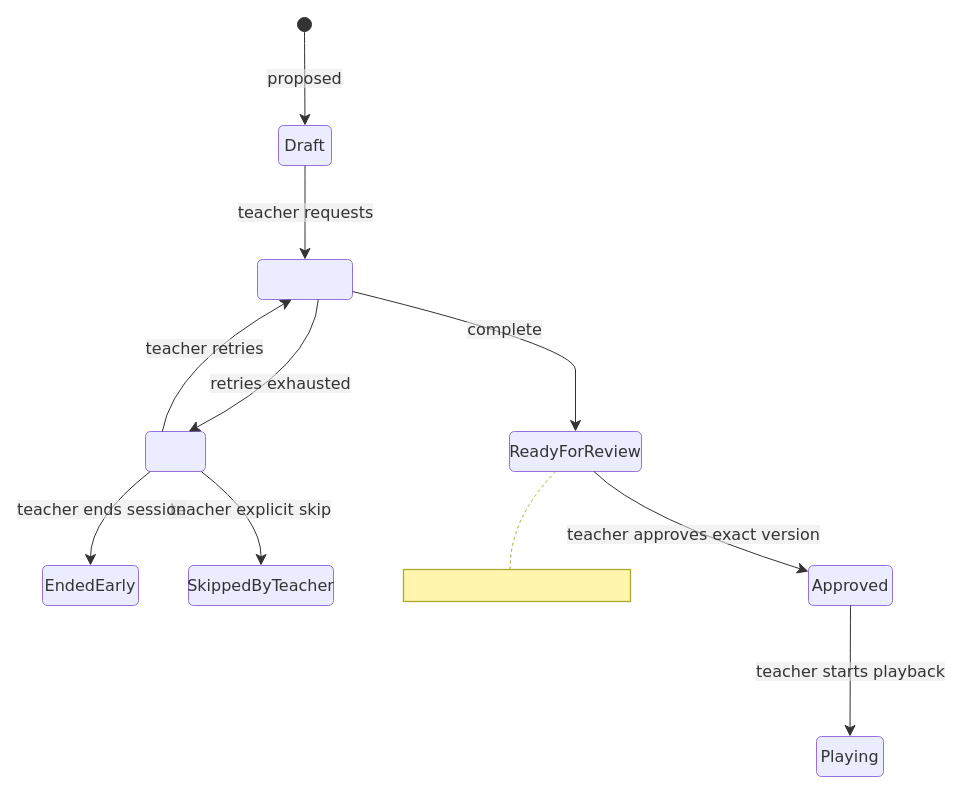
This 962x794 diagram has some shape labels left out. The centre of each missing label's shape, as x and y in pixels:
approval is version-specific: (x=516, y=585)
Failed: (x=175, y=451)
Generating: (x=304, y=279)
